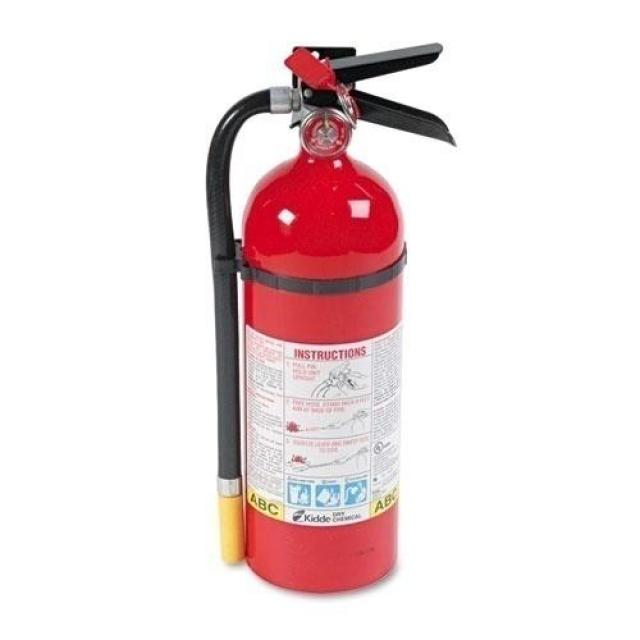fire_extinguisher: (198, 35, 462, 601)
